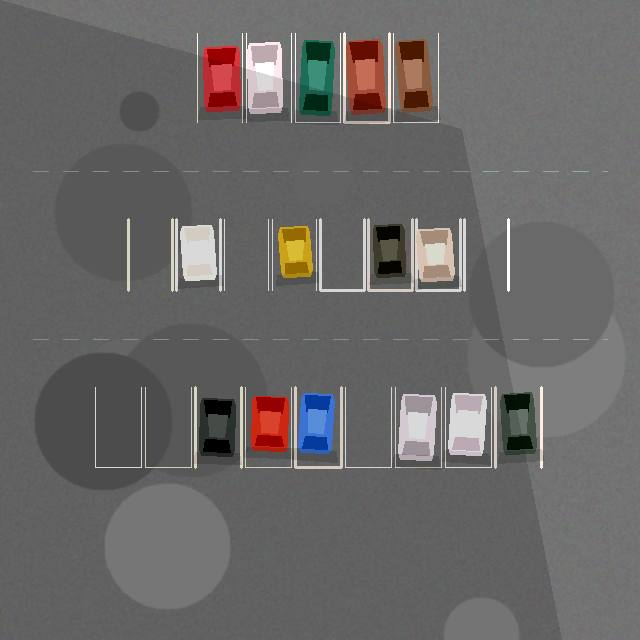space-empty: (95, 387, 141, 467), (145, 387, 191, 467), (345, 387, 391, 467), (128, 219, 172, 290), (224, 219, 268, 290), (320, 219, 364, 290), (464, 219, 508, 290)
space-occupied: (197, 33, 242, 122), (246, 33, 291, 122), (295, 33, 340, 122), (344, 33, 389, 122), (393, 33, 438, 122), (195, 387, 241, 467), (245, 387, 291, 467), (295, 387, 341, 467), (395, 387, 441, 467), (445, 387, 491, 467), (495, 387, 541, 467), (176, 219, 220, 290), (272, 219, 316, 290), (368, 219, 412, 290), (416, 219, 460, 290)
